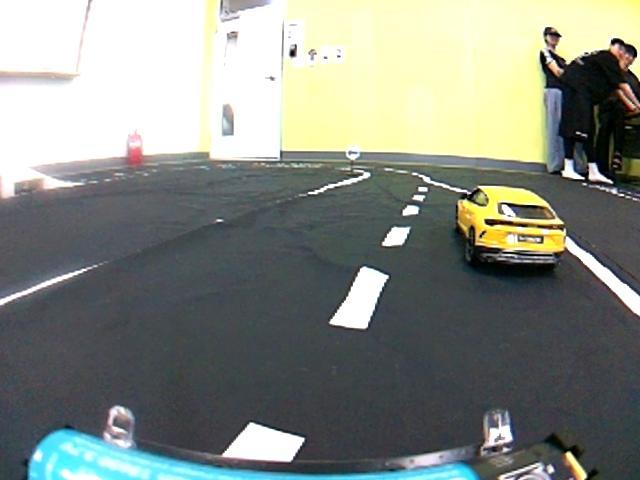car: (446, 181, 576, 279)
left: (0, 226, 600, 479)
